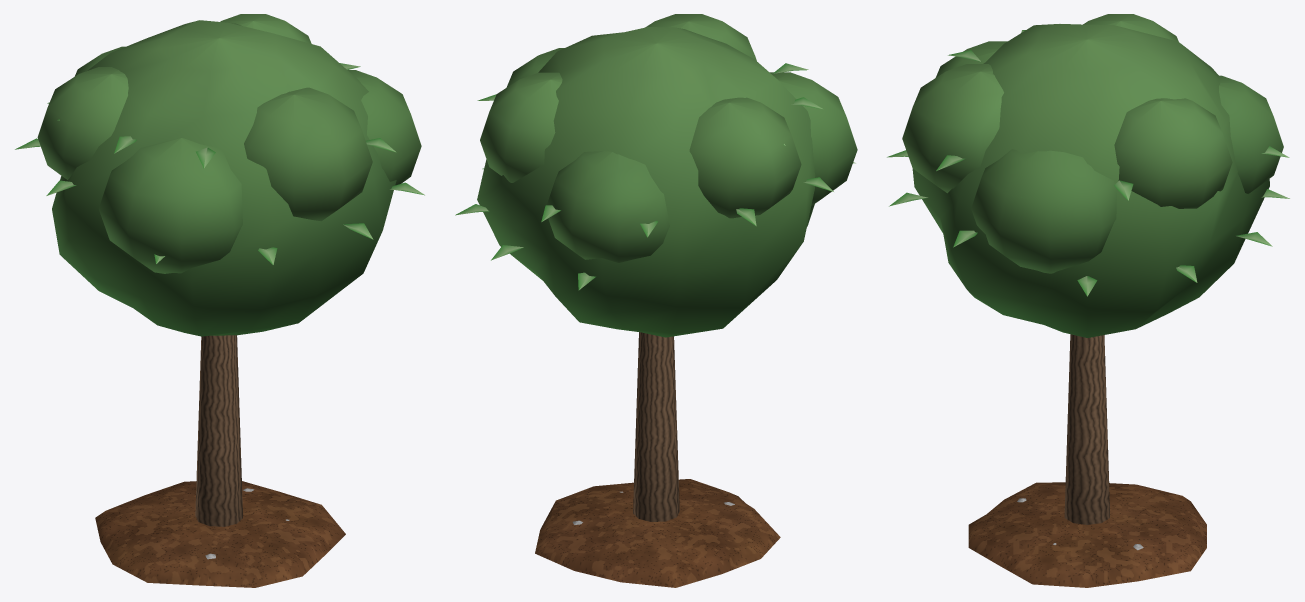
The model's file is plant-mango-3.glb.
3 views of the same model, side by side, from view 1: azimuth 30°, elevation 25°; view 2: azimuth 150°, elevation 25°; view 3: azimuth 270°, elevation 25° (orthographic). The views are drawn at different scales.
Parts seen in each view (by area): view 1: plant-mango-3; view 2: plant-mango-3; view 3: plant-mango-3.
Part boxes in pixels (left/top/right/bottom): plant-mango-3: left=15, top=14, right=424, bottom=587; plant-mango-3: left=455, top=14, right=857, bottom=587; plant-mango-3: left=887, top=14, right=1289, bottom=587.
Bounding box in the file's own units: 1.67 × 2.24 × 1.65.
Materials: 5 (3 with a texture image).
